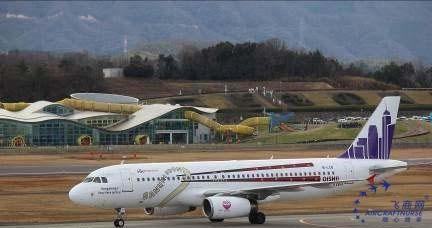airplane: (67, 94, 412, 225)
